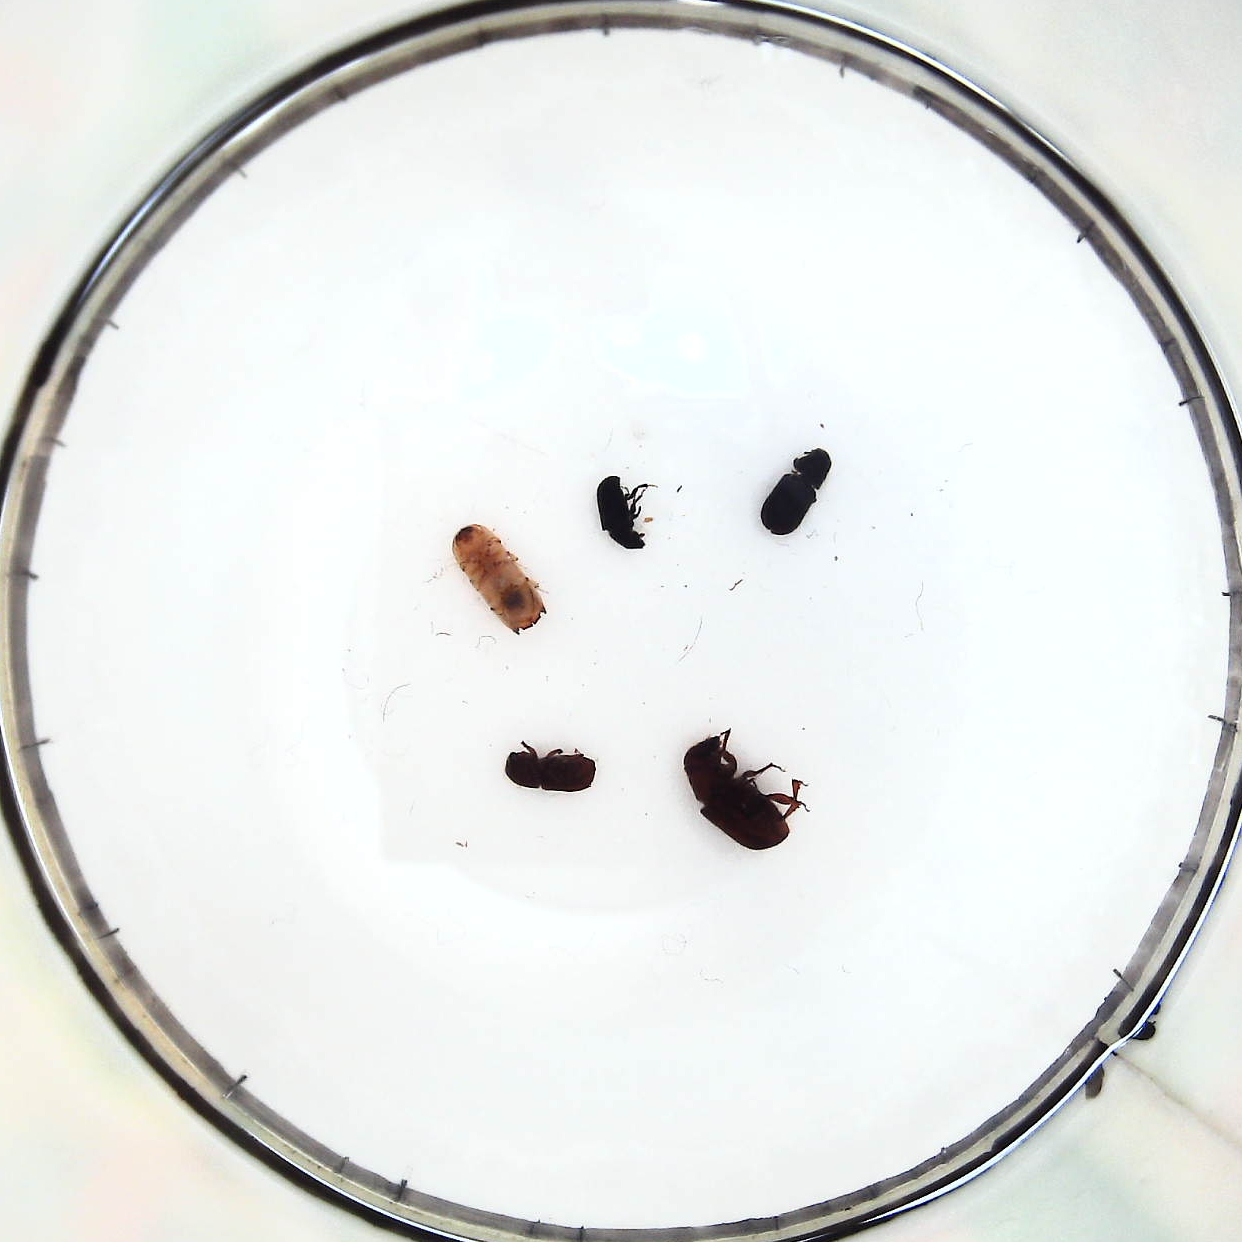Boerner: (442, 516, 546, 634)
Leconte: (687, 734, 796, 856)
Linnaeus: (504, 742, 598, 798)
armandi: (757, 447, 833, 541)
coleoptera: (590, 467, 652, 552)
